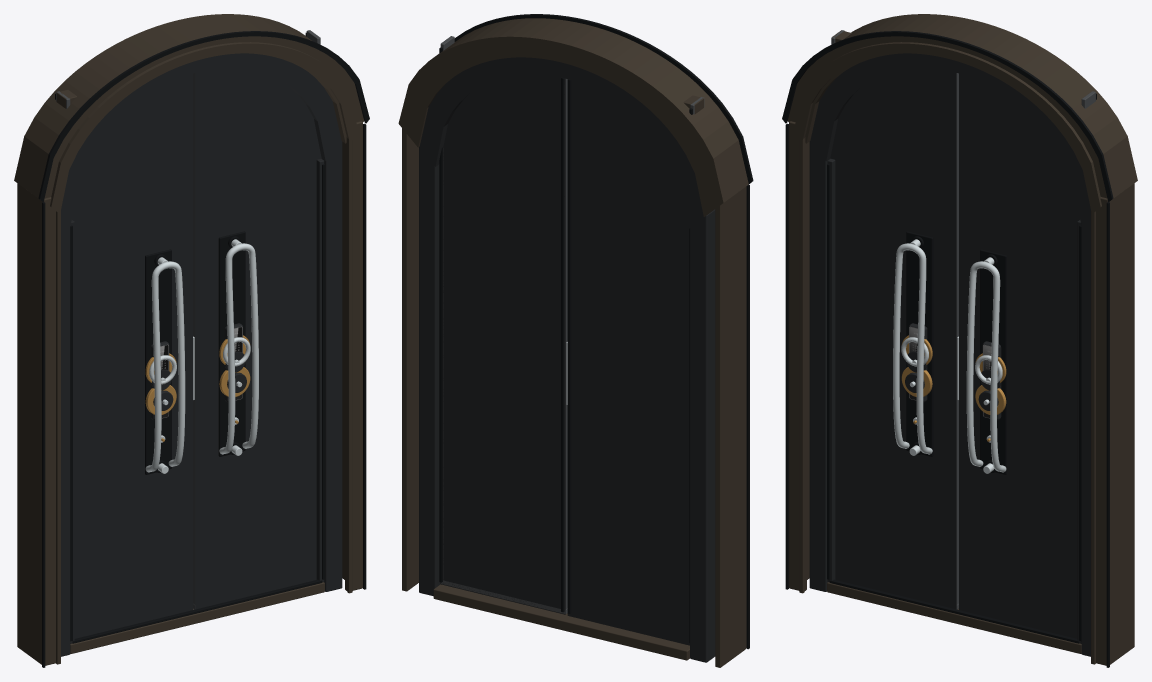
The model's file is d90-guanmin-transom-double-door.glb.
3 views of the same model, side by side, from view 1: azimuth 30°, elevation 25°; view 2: azimuth 150°, elevation 25°; view 3: azimuth 330°, elevation 25° (orthographic).
Parts seen in each view (by area): view 1: DoorLeaf_Main_Front, DoorLeaf_Child_Front, Casing_Top_ArchWallReturn, Casing_Left_WallReturn, Frame_Right_StructuralJamb, Casing_Right_FrontFlange, Frame_Top_ArchStructural, Casing_Left_FrontFlange, Casing_Top_ArchInnerStep, Frame_Left_StructuralJamb, Main_LongPull_RecessChannel, Child_LongPull_RoundedBar (+15 smaller); view 2: DoorLeaf_Main_Back, DoorLeaf_Child_Back, Casing_Top_ArchWallReturn, Casing_Left_WallReturn, Frame_Left_StructuralJamb, Frame_Right_StructuralJamb, Casing_Right_WallReturn, Frame_Top_ArchStructural, Frame_Threshold, Child_LeafSeal_Latch, Main_LeafSeal_Latch, Main_FoldedEdge_Latch (+6 smaller); view 3: DoorLeaf_Child_Front, DoorLeaf_Main_Front, Casing_Top_ArchWallReturn, Casing_Right_WallReturn, Frame_Left_StructuralJamb, Casing_Left_FrontFlange, Frame_Top_ArchStructural, Casing_Right_FrontFlange, Casing_Top_ArchInnerStep, Frame_Right_StructuralJamb, Child_LongPull_RecessChannel, Main_LongPull_RoundedBar (+15 smaller).
Boxes of the visible parts, bbox=[...] form: DoorLeaf_Main_Front: bbox=[195, 68, 321, 609]; DoorLeaf_Child_Front: bbox=[72, 73, 192, 638]; Casing_Top_ArchWallReturn: bbox=[14, 14, 364, 198]; Casing_Left_WallReturn: bbox=[17, 183, 41, 664]; Frame_Right_StructuralJamb: bbox=[322, 141, 342, 591]; Casing_Right_FrontFlange: bbox=[345, 121, 362, 590]; Frame_Top_ArchStructural: bbox=[61, 53, 341, 223]; Casing_Left_FrontFlange: bbox=[41, 197, 55, 665]; Casing_Top_ArchInnerStep: bbox=[50, 42, 358, 213]; Frame_Left_StructuralJamb: bbox=[61, 207, 70, 656]; Main_LongPull_RecessChannel: bbox=[218, 231, 245, 456]; Child_LongPull_RoundedBar: bbox=[145, 261, 185, 472]; DoorLeaf_Main_Back: bbox=[440, 74, 565, 614]; DoorLeaf_Child_Back: bbox=[567, 80, 689, 645]; Casing_Top_ArchWallReturn: bbox=[398, 18, 748, 216]; Casing_Left_WallReturn: bbox=[715, 188, 745, 667]; Frame_Left_StructuralJamb: bbox=[690, 209, 715, 662]; Frame_Right_StructuralJamb: bbox=[419, 146, 439, 596]; Casing_Right_WallReturn: bbox=[402, 127, 418, 591]; Frame_Top_ArchStructural: bbox=[419, 57, 703, 228]; Frame_Threshold: bbox=[433, 584, 689, 660]; Child_LeafSeal_Latch: bbox=[567, 79, 571, 613]; Main_LeafSeal_Latch: bbox=[561, 77, 564, 612]; Main_FoldedEdge_Latch: bbox=[563, 78, 567, 613]; DoorLeaf_Child_Front: bbox=[830, 68, 956, 609]; DoorLeaf_Main_Front: bbox=[959, 73, 1079, 638]; Casing_Top_ArchWallReturn: bbox=[787, 14, 1137, 198]; Casing_Right_WallReturn: bbox=[1110, 183, 1134, 664]; Frame_Left_StructuralJamb: bbox=[809, 141, 829, 591]; Casing_Left_FrontFlange: bbox=[789, 121, 806, 590]; Frame_Top_ArchStructural: bbox=[810, 53, 1090, 223]; Casing_Right_FrontFlange: bbox=[1096, 197, 1110, 665]; Casing_Top_ArchInnerStep: bbox=[793, 42, 1101, 213]; Frame_Right_StructuralJamb: bbox=[1081, 207, 1090, 656]; Child_LongPull_RecessChannel: bbox=[906, 231, 933, 456]; Main_LongPull_RoundedBar: bbox=[966, 261, 1006, 472].
Size of the model in its own units: 1.58 by 2.69 by 0.2687.
10 materials, 2 textured.
